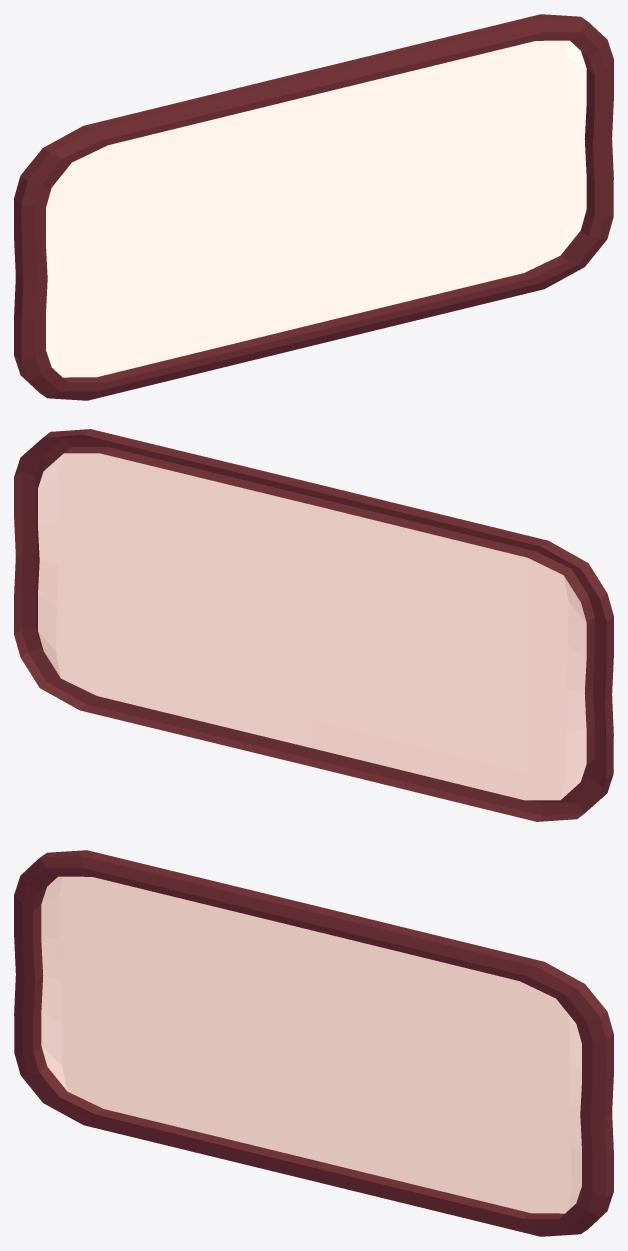
The model's file is ScreenRedesign.fbx.
3 views of the same model, one above another, from view 1: azimuth 30°, elevation 25°; view 2: azimuth 150°, elevation 25°; view 3: azimuth 330°, elevation 25° (orthographic).
Visible parts, largest first — view 1: Screen.002; view 2: Screen.002; view 3: Screen.002.
Boxes of the visible parts, left/top/right/bottom form: Screen.002: left=14, top=14, right=613, bottom=400; Screen.002: left=14, top=429, right=613, bottom=821; Screen.002: left=14, top=850, right=613, bottom=1236.
Size of the model in its own units: 789 by 348 by 31.99.
